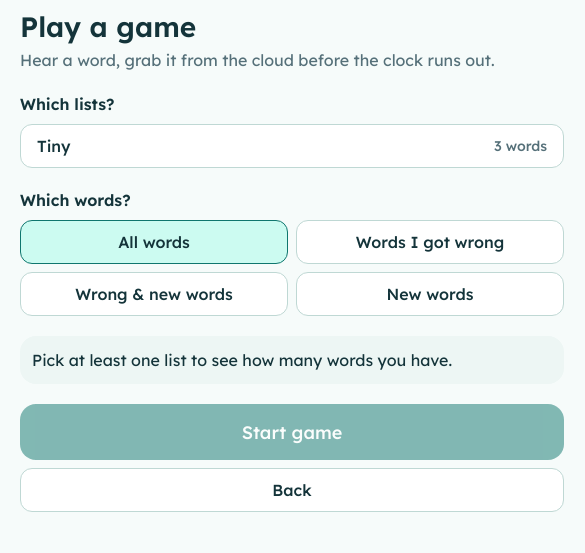
Test: too few words to play › refuses to start and says what would fix it
Click the button "Tiny 3 words".
click(54, 146)  # box [20,124,564,168]
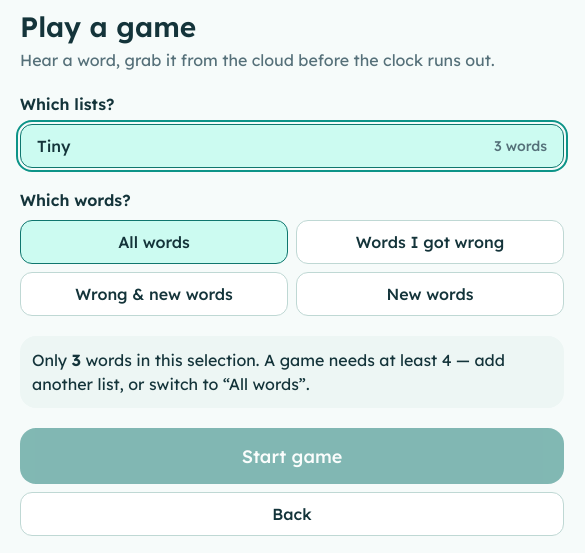
Check: the button "Start game" is disabled, box [20,428,564,484]
Check: the message shows "at least 4", box [20,336,564,408]
